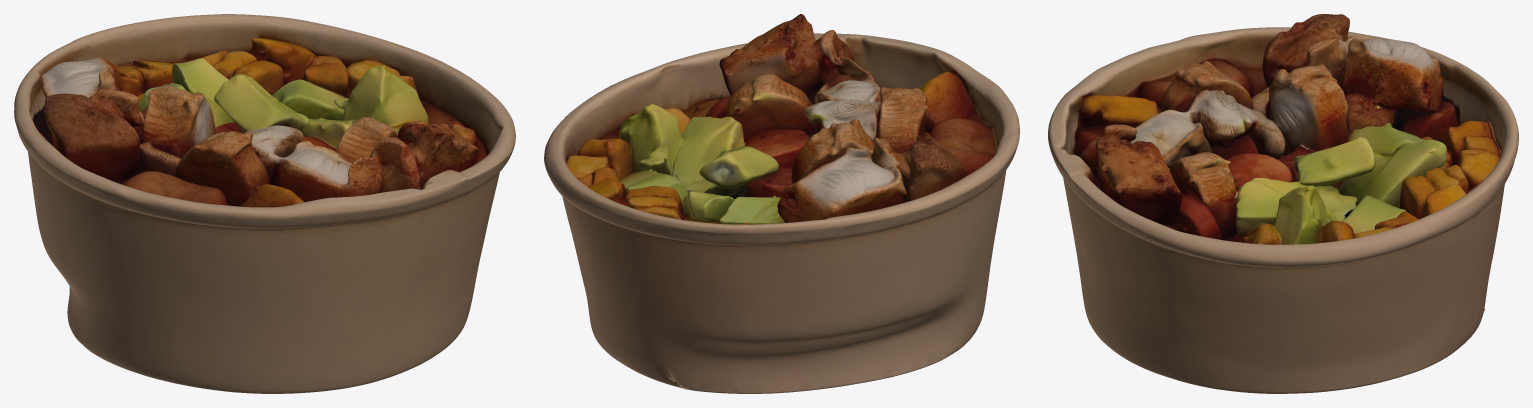
Rendered from food_bowl.glb.
3 renders of one model, left to right at view 1: azimuth 30°, elevation 25°; view 2: azimuth 150°, elevation 25°; view 3: azimuth 270°, elevation 25°, orthographic. The views are drawn at different scales.
Parts seen in each view (by area): view 1: tripo_node_7e1845eb-586d-44cf-8436-569352b743b3; view 2: tripo_node_7e1845eb-586d-44cf-8436-569352b743b3; view 3: tripo_node_7e1845eb-586d-44cf-8436-569352b743b3.
Part boxes in pixels (box(x1,y1,x2,y2)): tripo_node_7e1845eb-586d-44cf-8436-569352b743b3: box(14, 14, 515, 393); tripo_node_7e1845eb-586d-44cf-8436-569352b743b3: box(544, 14, 1019, 393); tripo_node_7e1845eb-586d-44cf-8436-569352b743b3: box(1048, 14, 1518, 393).
Size of the model in its own units: 0.9763 by 0.5084 by 0.9796.
Materials: 1 (1 with a texture image).
